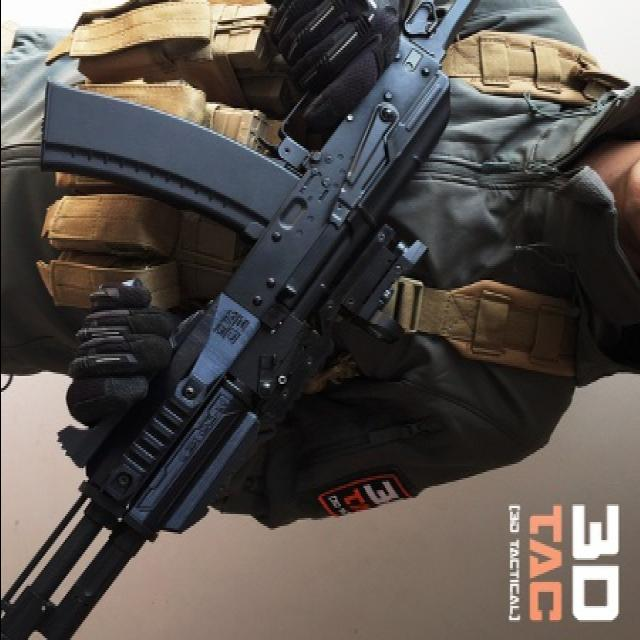rifle: (15, 5, 485, 639)
